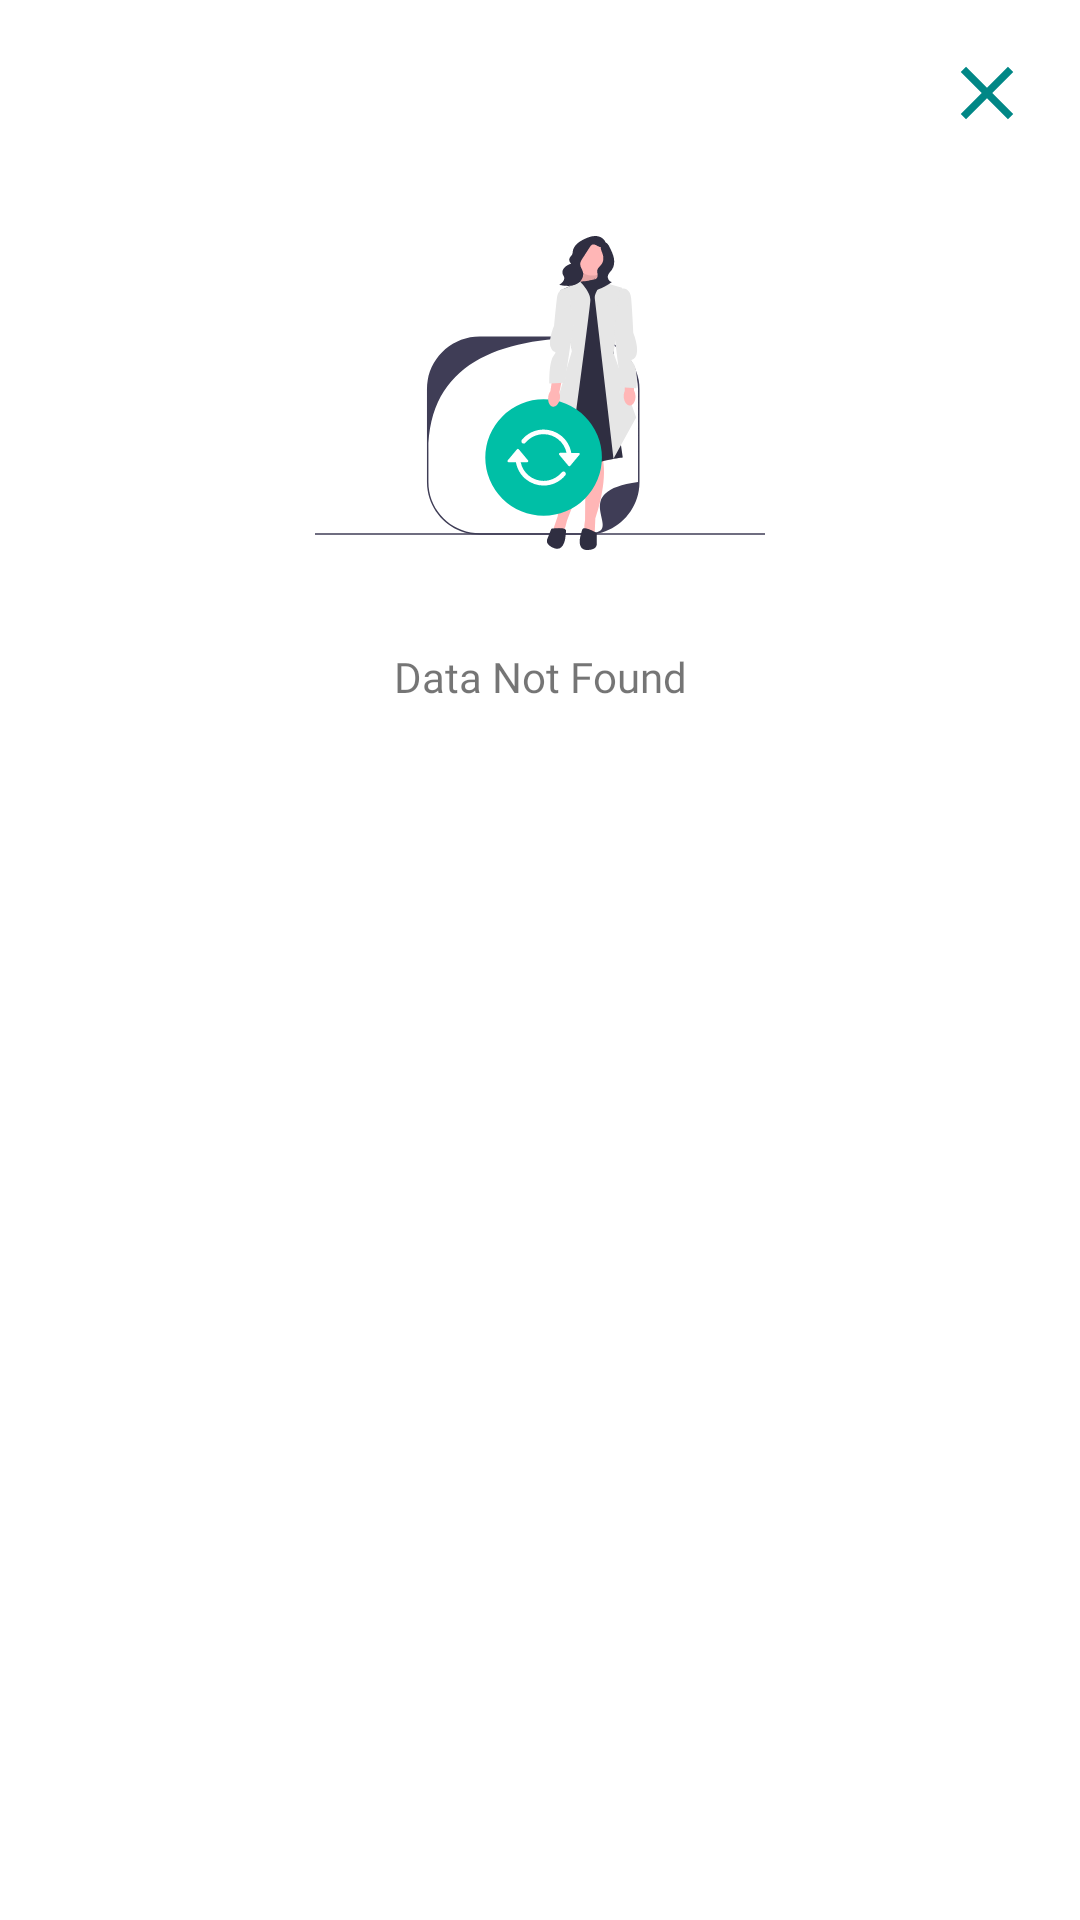

Named icons in this screenshot (1080*1920) and their bounding boxes, Rect(x1, y1, x2, y2):
close: Rect(961, 67, 1013, 119)
